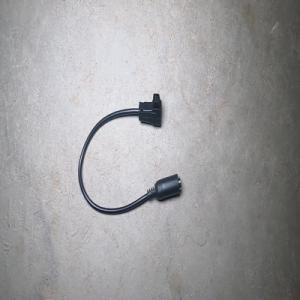Wire: (77, 92, 181, 215)
